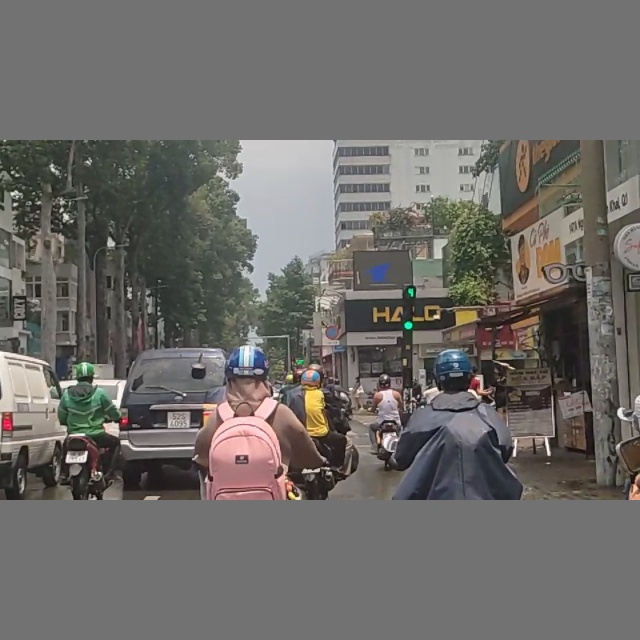P.131a: (325, 325, 340, 339)
